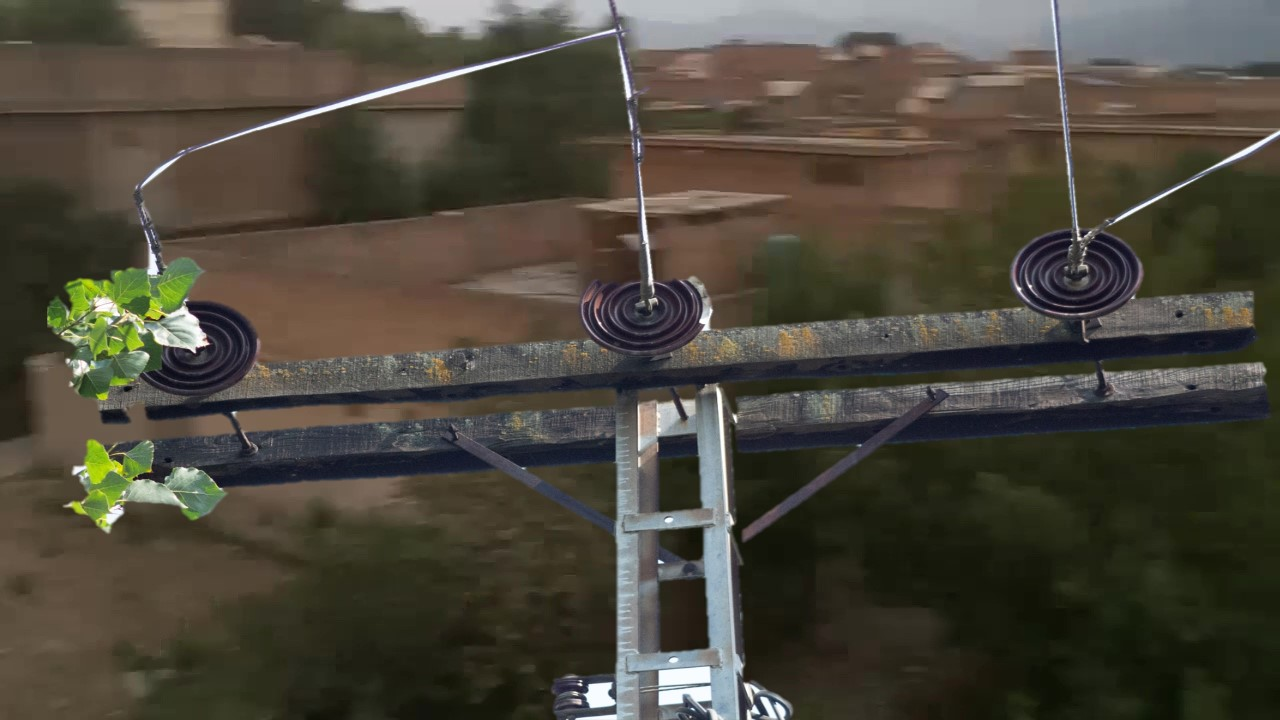defect_disc: (576, 263, 722, 359)
insulator_disc: (1006, 222, 1152, 328), (159, 301, 268, 390)
